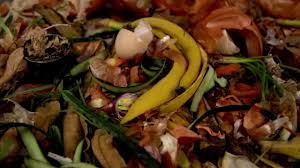kitchen_waste: (121, 7, 224, 131), (192, 4, 277, 64), (83, 53, 135, 88), (242, 98, 288, 137), (12, 121, 50, 168), (113, 19, 153, 55), (91, 128, 127, 168), (63, 107, 86, 164)
